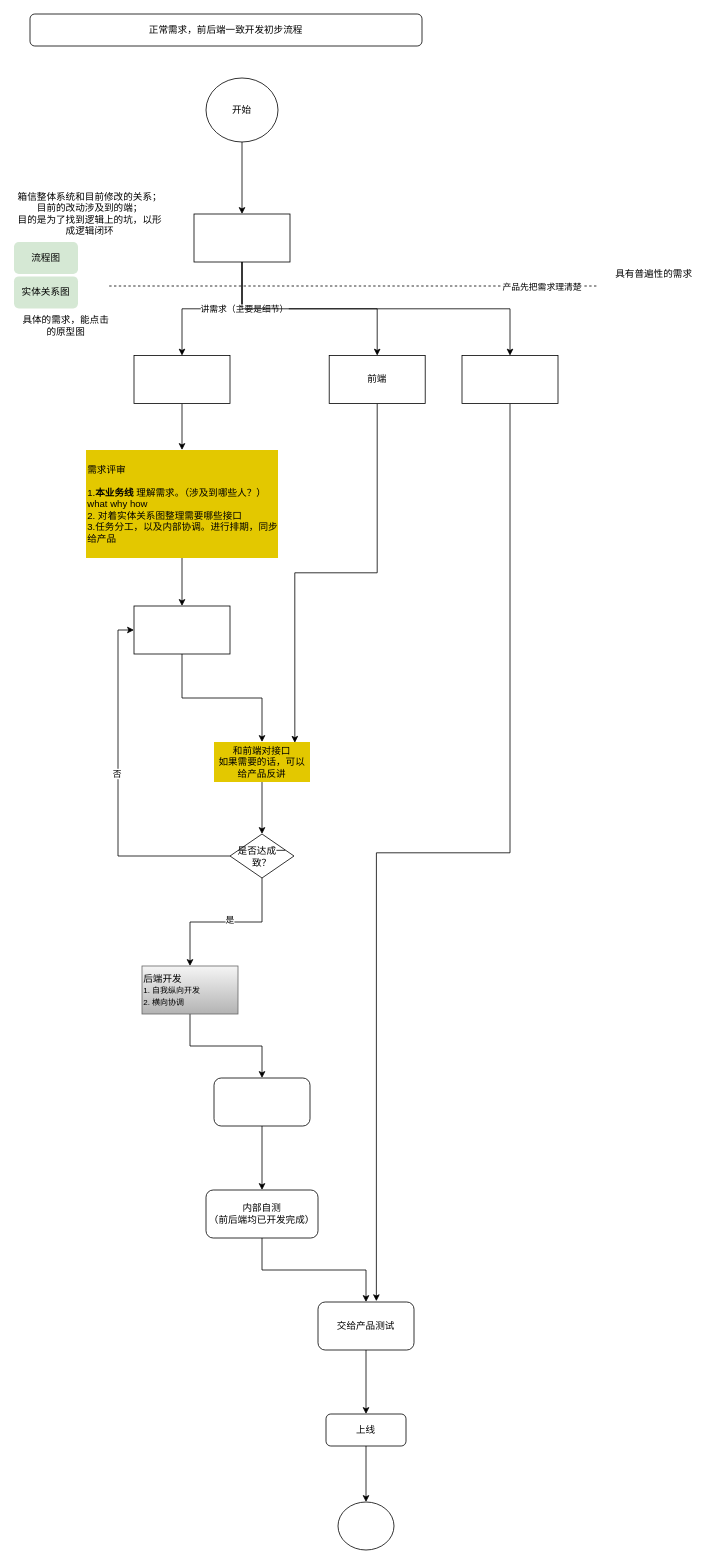
Image size: 707x1564. Some labels were removed from this diagram. The shapes that lost their labels are listed below. From the top down, each one's centre as x and y in pixels, then its label:
the point at 241,237: 产品
the point at 181,379: 后端
the point at 509,379: 测试
the point at 181,629: 出 Mock 接口文档 出Controller 主 结构，字段不重要
the point at 261,1101: 联调
the point at 365,1525: 结束
